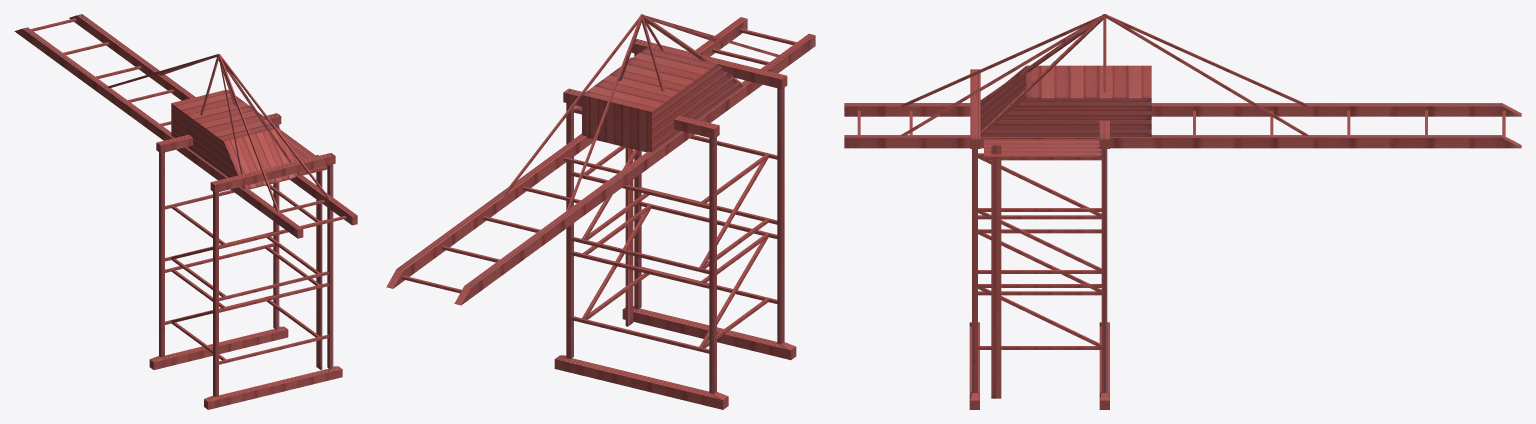
The model's file is nia_docks_crane.fbx.
The picture shows the model from 3 angles, left to right: view 1: azimuth 30°, elevation 25°; view 2: azimuth 150°, elevation 25°; view 3: azimuth 270°, elevation 25°; orthographic projection. The views are drawn at different scales.
Parts seen in each view (by area): view 1: nia_docks_crane; view 2: nia_docks_crane; view 3: nia_docks_crane.
Boxes of the visible parts, x1,y1,x2,y2 form: nia_docks_crane: (14, 14, 357, 409); nia_docks_crane: (386, 14, 815, 409); nia_docks_crane: (844, 14, 1521, 409).
Bounding box in the file's own units: 1480 × 3134 × 5396.
